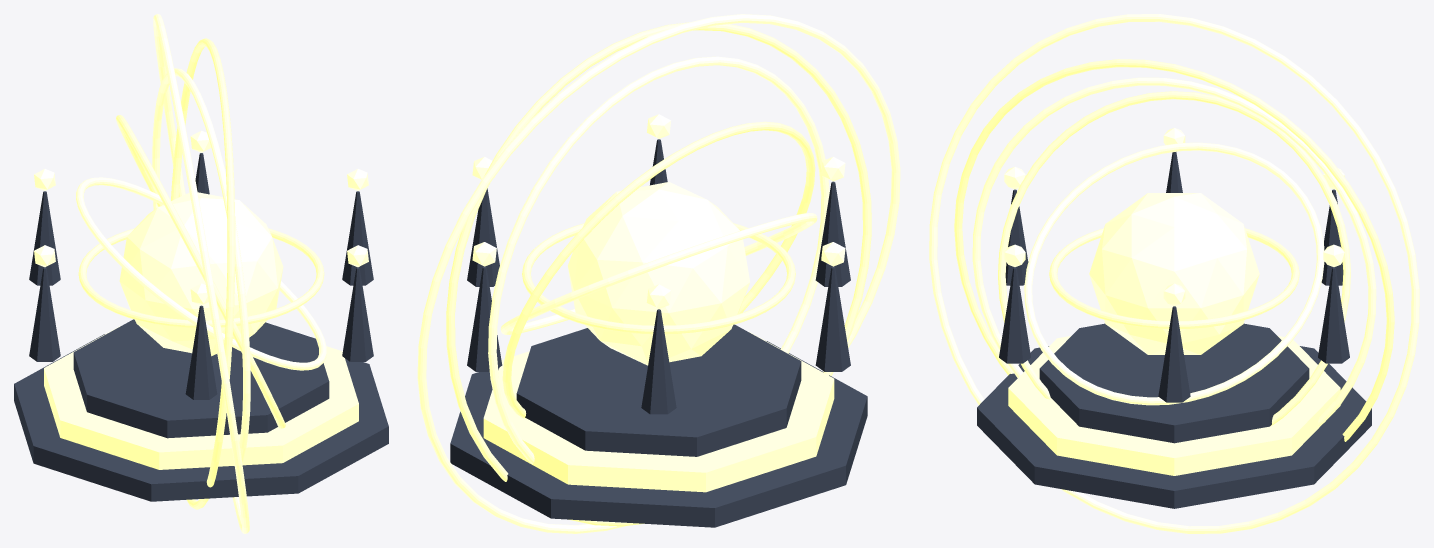
File: gpu-blender-totem.glb
3 renders of one model, left to right at view 1: azimuth 30°, elevation 25°; view 2: azimuth 150°, elevation 25°; view 3: azimuth 270°, elevation 25°, orthographic. The views are drawn at different scales.
Parts seen in each view (by area): view 1: Cylinder.002, Cylinder, SovereignCore_neal-bliki, Cylinder.001, Torus.005, Torus.004, Torus.003, Torus.001, Torus, Torus.002, Cone.003, Cone.005 (+3 smaller); view 2: Cylinder.002, SovereignCore_neal-bliki, Cylinder, Cylinder.001, Torus.005, Torus.004, Torus.003, Torus.002, Torus.001, Torus, Cone.002, Cone.003 (+3 smaller); view 3: SovereignCore_neal-bliki, Cylinder.002, Cylinder, Cylinder.001, Torus.005, Torus.004, Torus.001, Torus.003, Torus.002, Torus, Cone, Cone.001 (+3 smaller).
Part boxes in pixels (x1,y1,x2,y2): Cylinder.002: (73,319,329,438); Cylinder: (14,334,388,501); SovereignCore_neal-bliki: (119,192,283,356); Cylinder.001: (44,326,358,469); Torus.005: (153,14,249,533); Torus.004: (171,38,235,509); Torus.003: (152,68,250,461); Torus.001: (76,177,326,370); Torus: (78,228,324,327); Torus.002: (116,115,285,428); Cone.003: (29,267,60,361); Cone.005: (342,267,373,361); Cylinder.002: (516,324,801,456); SovereignCore_neal-bliki: (568,182,749,365); Cylinder: (450,341,867,527); Cylinder.001: (483,332,834,492); Torus.005: (417,14,900,533); Torus.004: (446,22,871,526); Torus.003: (488,56,829,463); Torus.002: (502,121,815,418); Torus.001: (500,213,817,334); Torus: (522,223,795,334); Cone.002: (641,309,676,414); Cone.003: (815,267,850,371); SovereignCore_neal-bliki: (1089,193,1259,354); Cylinder.002: (1039,323,1309,443); Cylinder: (977,346,1371,508); Cylinder.001: (1008,336,1340,475); Torus.005: (929,14,1419,533); Torus.004: (954,59,1394,441); Torus.001: (1024,142,1324,405); Torus.003: (972,77,1376,426); Torus.002: (998,91,1350,425); Torus: (1049,228,1299,328); Cone: (1158,306,1190,402); Cone.001: (1318,267,1349,363).
Size of the model in its own units: 4.41 by 5.93 by 5.46.
